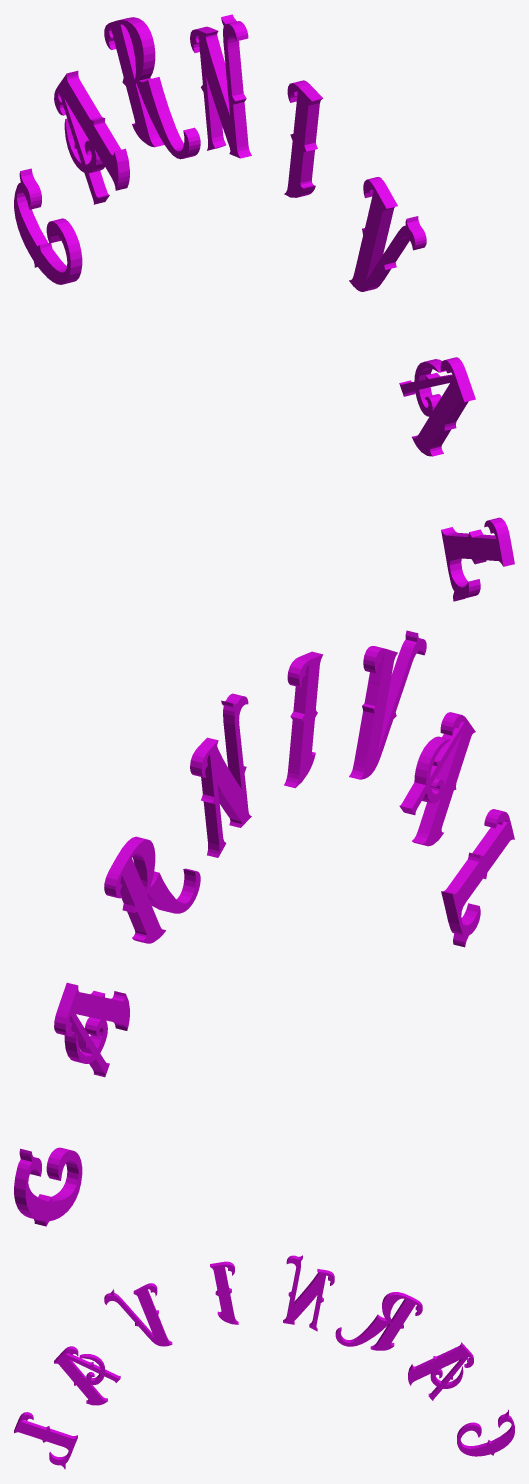
File: CarnivalText.fbx
3 views of the same model, one above another, from view 1: azimuth 30°, elevation 25°; view 2: azimuth 150°, elevation 25°; view 3: azimuth 270°, elevation 25° (orthographic). The views are drawn at different scales.
Parts seen in each view (by area): view 1: Model Text Moyers - Carnival [14092]; view 2: Model Text Moyers - Carnival [14092]; view 3: Model Text Moyers - Carnival [14092].
Boxes of the visible parts, x1,y1,x2,y2 form: Model Text Moyers - Carnival [14092]: [14, 14, 514, 601]; Model Text Moyers - Carnival [14092]: [14, 630, 514, 1226]; Model Text Moyers - Carnival [14092]: [14, 1255, 514, 1469].
Size of the model in its own units: 5 by 172 by 368.
